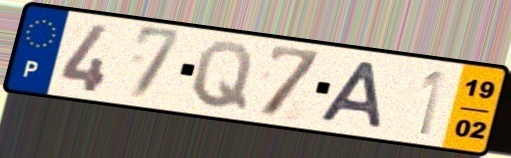1: (417, 69, 447, 137)
4: (55, 19, 109, 96)
7: (120, 24, 184, 106), (257, 43, 324, 121)
A: (316, 58, 386, 131)
Q: (189, 39, 256, 114)
